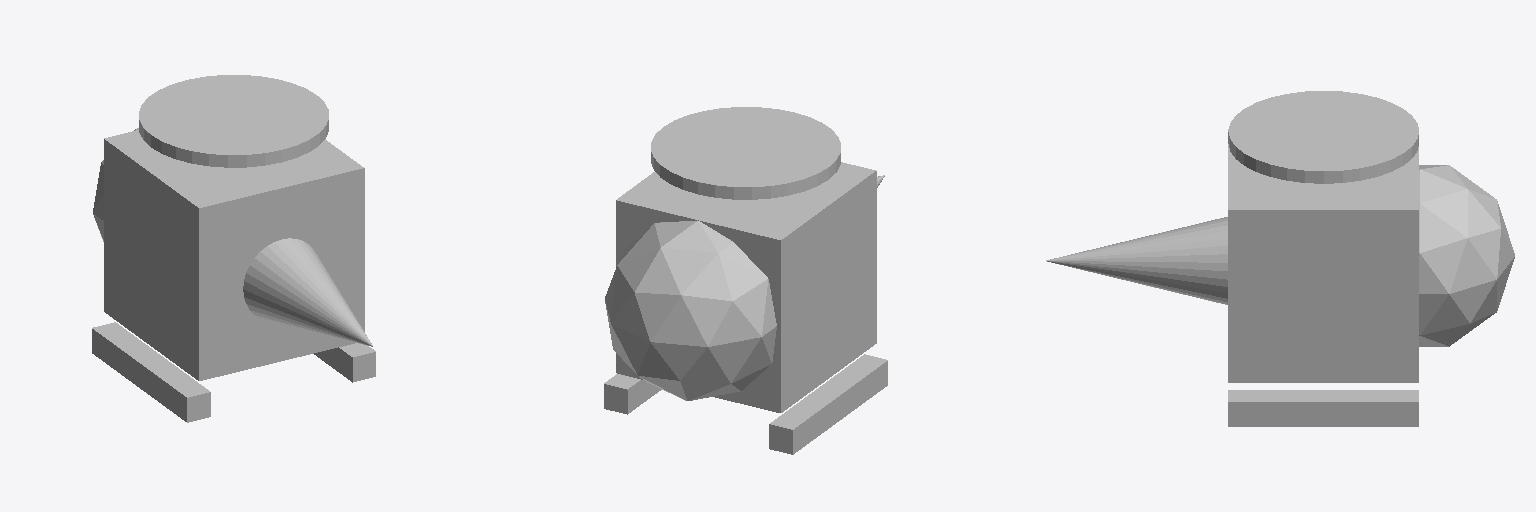
The model's file is oka.obj.
The picture shows the model from 3 angles: view 1: azimuth 30°, elevation 25°; view 2: azimuth 150°, elevation 25°; view 3: azimuth 270°, elevation 25°; orthographic projection.
Visible parts, largest first — view 1: Cube_Cube.002, Icosphere; view 2: Cube_Cube.002, Icosphere; view 3: Cube_Cube.002, Icosphere.
Part boxes in pixels (x1,y1,x2,y2): Cube_Cube.002: (92, 75, 375, 422); Icosphere: (93, 128, 138, 241); Cube_Cube.002: (604, 107, 887, 454); Icosphere: (605, 220, 776, 400); Cube_Cube.002: (1046, 91, 1418, 426); Icosphere: (1419, 165, 1514, 346).
Size of the model in its own units: 2.29 by 2.89 by 4.93.